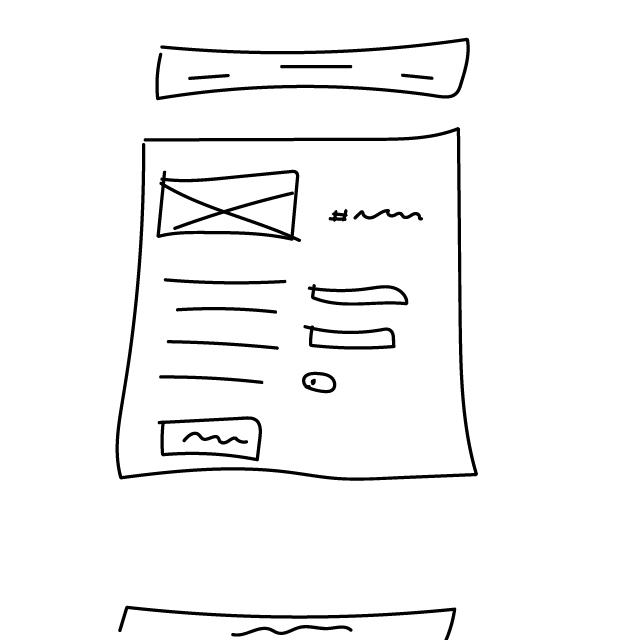buttonrotation: (158, 411, 267, 465)
checkboxrotation: (300, 369, 343, 396)
containerrotation: (105, 128, 490, 491)
footerrotation: (107, 598, 469, 640)
framerotation: (155, 167, 304, 247)
headingrotation: (324, 205, 429, 229)
inputrotation: (304, 322, 403, 354), (306, 280, 411, 310)
navrotation: (148, 35, 479, 104)
textrotation: (159, 271, 291, 392)
